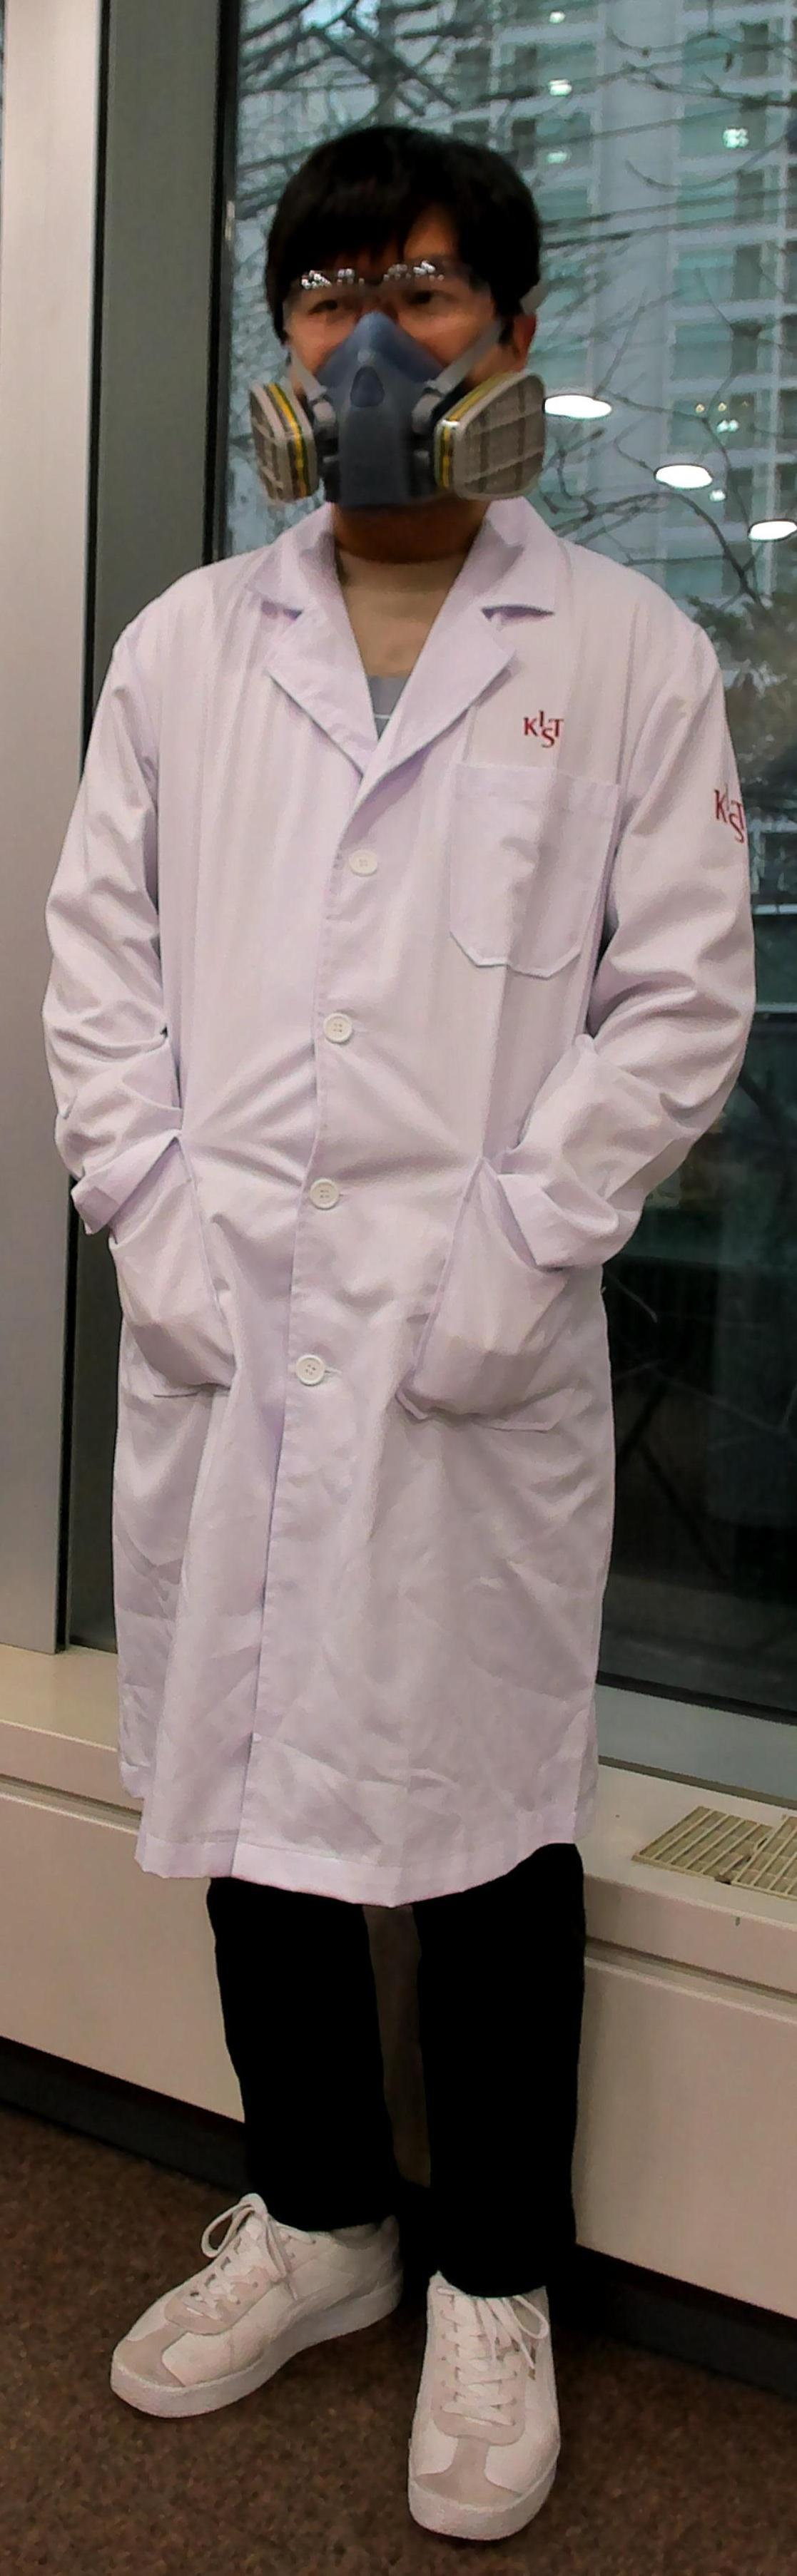lab_coat: (2, 529, 762, 1852)
